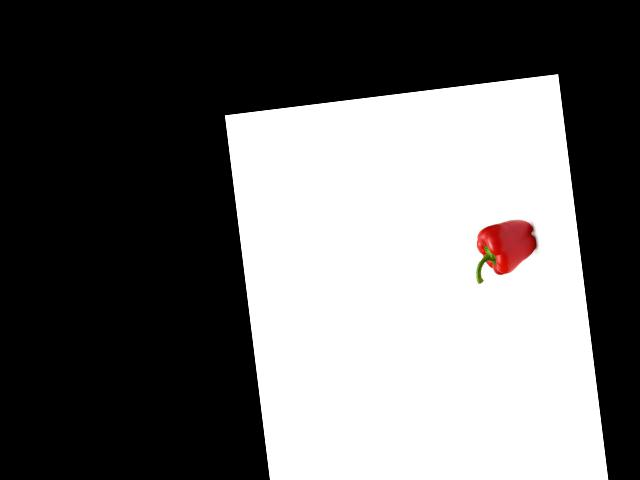bell_pepper: (466, 214, 544, 286)
